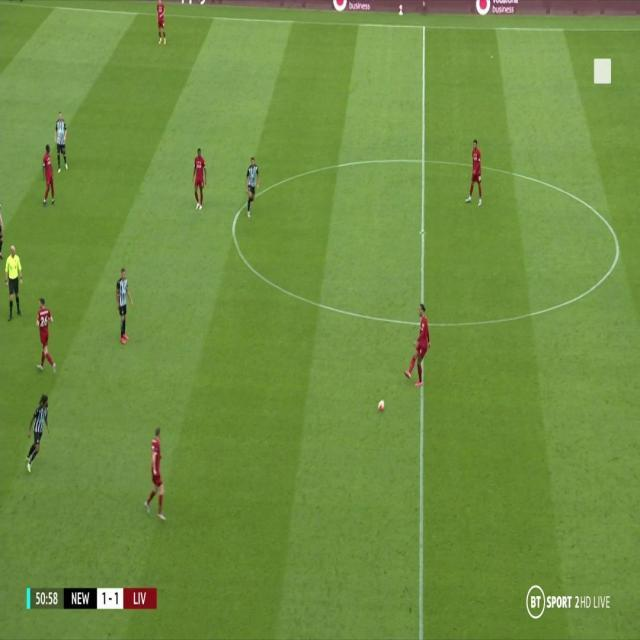ball: (377, 397, 386, 411)
player: (23, 389, 52, 475), (143, 425, 168, 523), (405, 300, 432, 387), (35, 294, 58, 378), (114, 266, 136, 345), (465, 137, 484, 208), (242, 154, 261, 220), (191, 145, 208, 212), (53, 108, 70, 172), (40, 143, 56, 207), (154, 0, 167, 44), (0, 202, 4, 259)
referee: (4, 244, 24, 323)
